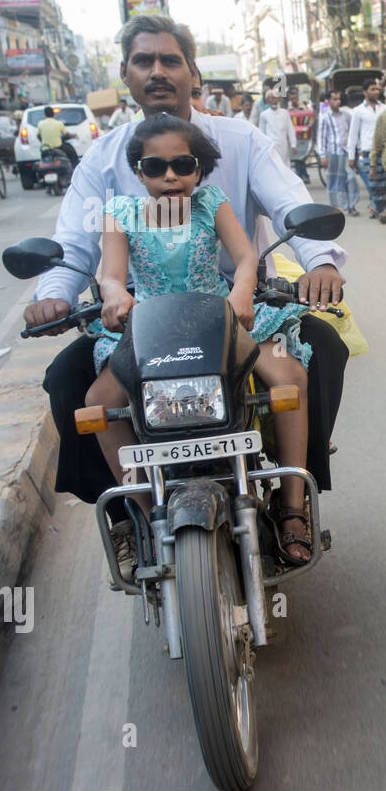motor: (8, 204, 347, 784)
no helmet: (112, 13, 198, 108), (129, 114, 208, 203)
number: (116, 438, 259, 462)
